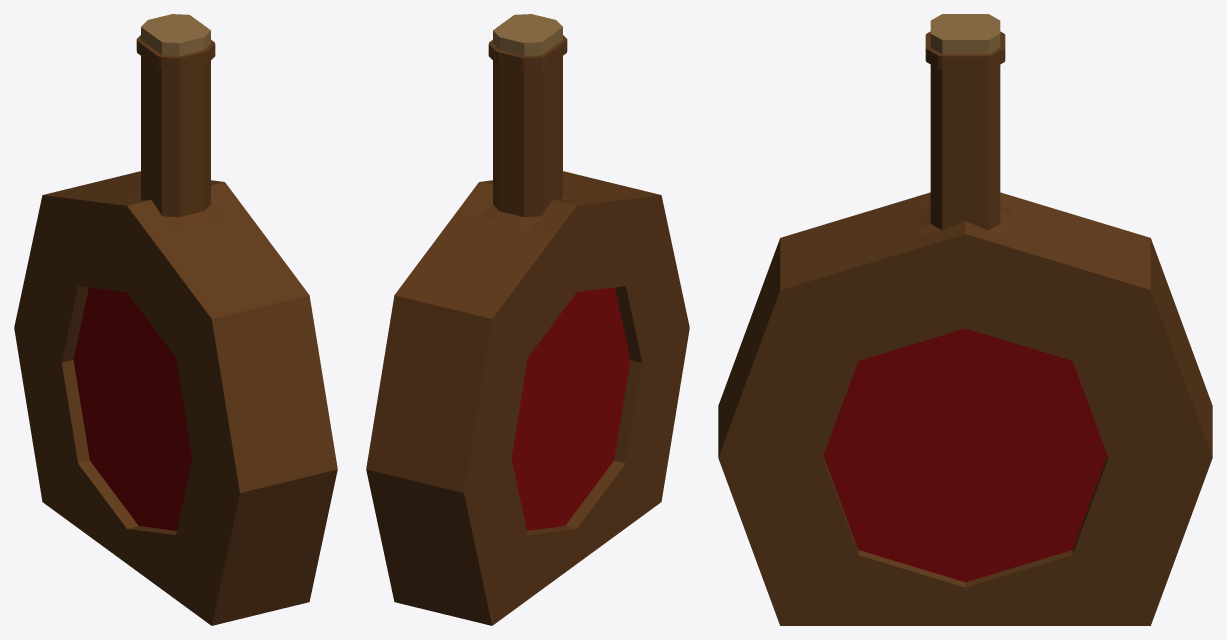
The model's file is decanter.glb.
The picture shows the model from 3 angles, left to right: view 1: azimuth 30°, elevation 25°; view 2: azimuth 150°, elevation 25°; view 3: azimuth 270°, elevation 25°; orthographic projection. The views are drawn at different scales.
Parts seen in each view (by area): view 1: Cube; view 2: Cube; view 3: Cube.
Boxes of the visible parts, x1,y1,x2,y2 form: Cube: (14,14,337,625); Cube: (366,14,689,625); Cube: (718,14,1212,625).
Bounding box in the file's own units: 0.5 × 2.56 × 2.
Materials: 1 (1 with a texture image).
